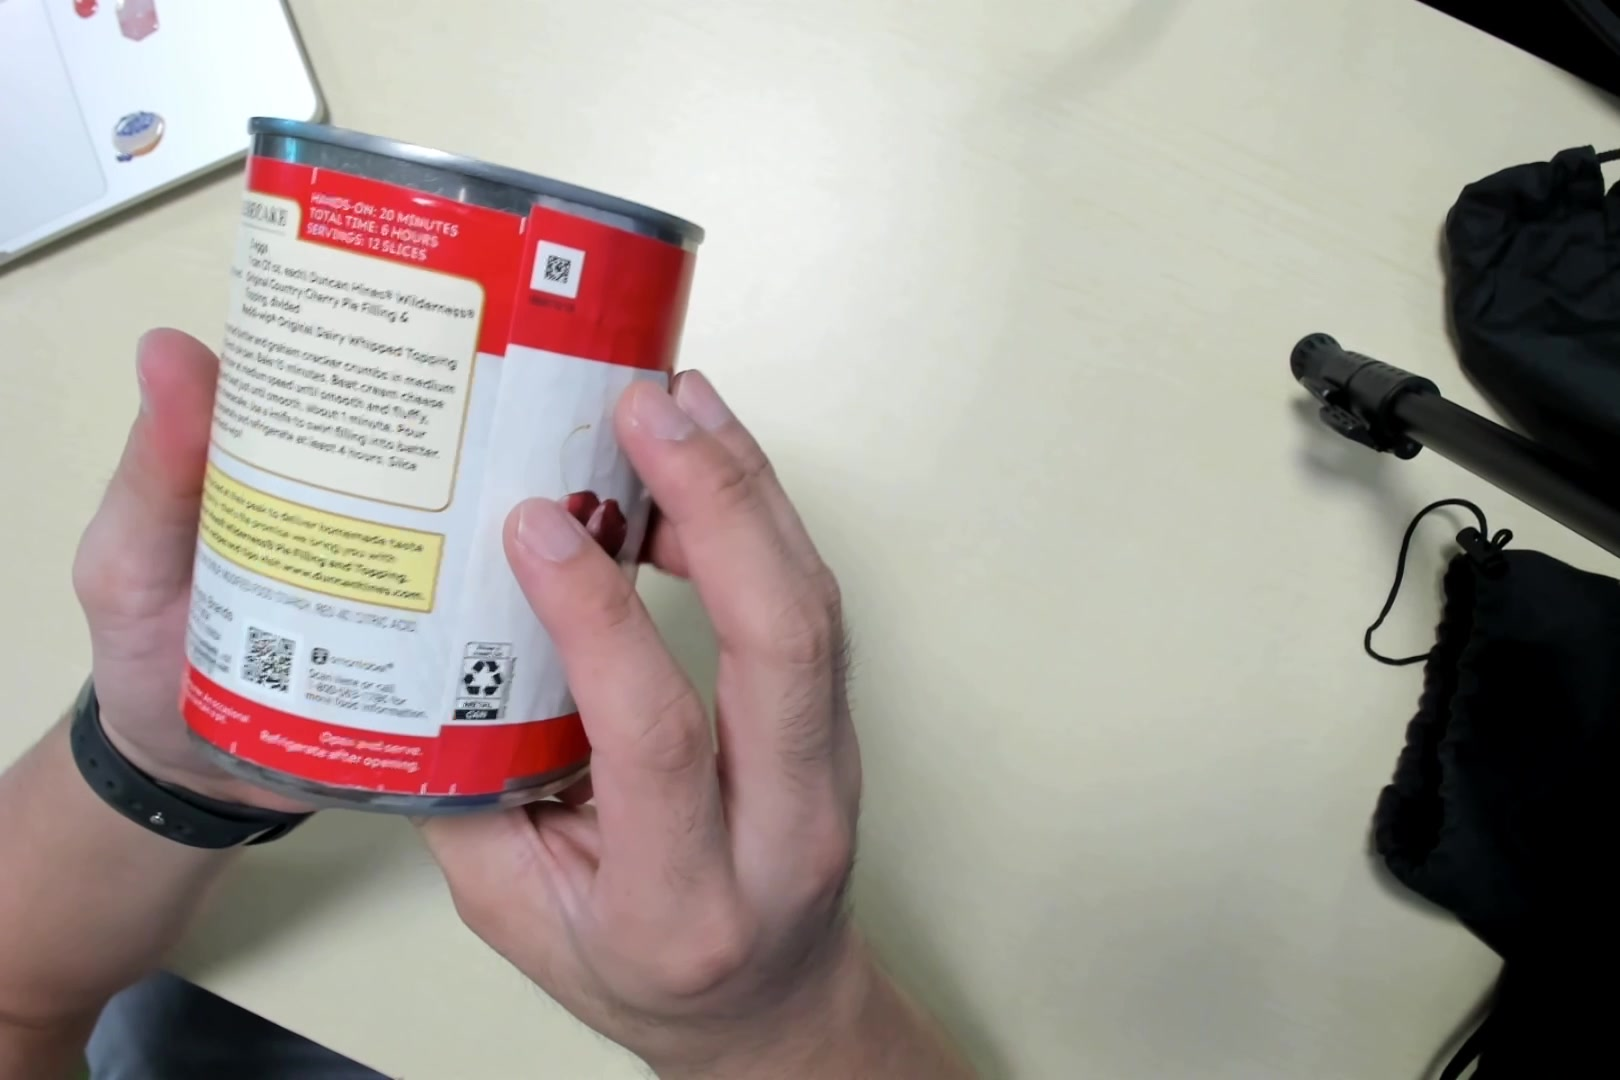OtherBakingNeeds_500-599g_NonHalal_NonHealthy: (187, 119, 699, 811)
